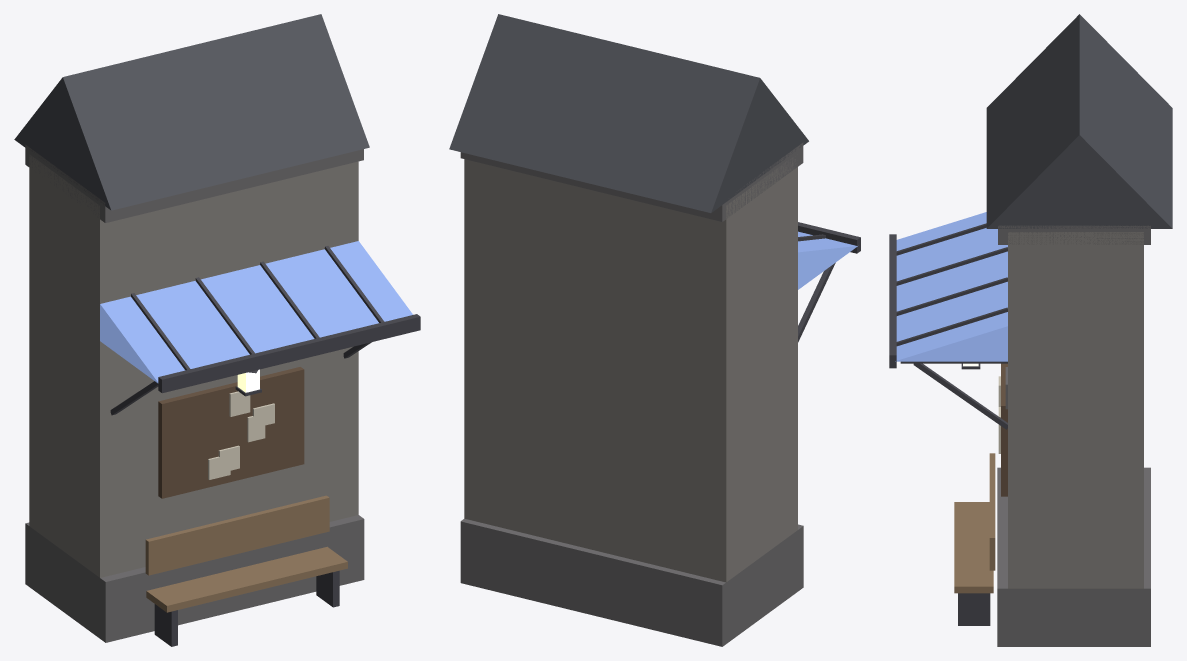
File: station_bench.glb
The picture shows the model from 3 angles, left to right: view 1: azimuth 30°, elevation 25°; view 2: azimuth 150°, elevation 25°; view 3: azimuth 270°, elevation 25°; orthographic projection. The views are drawn at different scales.
Visible parts, largest first — view 1: Upper, Plinth; view 2: Upper, Plinth; view 3: Upper, Plinth.
Boxes of the visible parts, box(x1,y1,x2,y2) form: Upper: box(14, 14, 420, 577); Plinth: box(25, 515, 364, 646); Upper: box(449, 14, 860, 582); Plinth: box(460, 518, 803, 646); Upper: box(889, 14, 1172, 588); Plinth: box(954, 467, 1150, 646).
Bounding box in the file's own units: 4 × 7.9 × 3.96.
